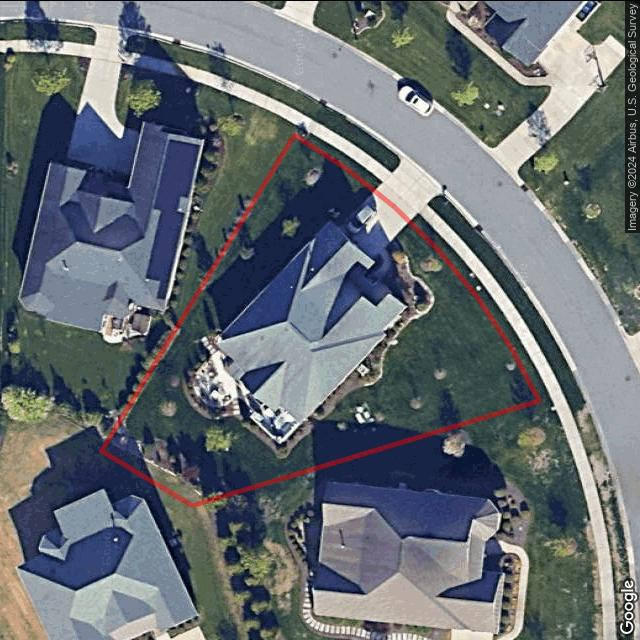Driveway: (340, 189, 410, 258)
Extra-Driveway: (375, 158, 441, 220)
Extra-Lawn: (427, 192, 580, 391), (410, 212, 550, 401), (307, 101, 401, 171), (294, 125, 381, 190)
Extra-Sidewalk: (419, 203, 565, 395), (300, 117, 392, 182)
House: (213, 218, 406, 424)
Lawn: (103, 134, 539, 505)
Other: (179, 248, 435, 461), (108, 418, 238, 498)
Sidewalk: (369, 248, 392, 281)
